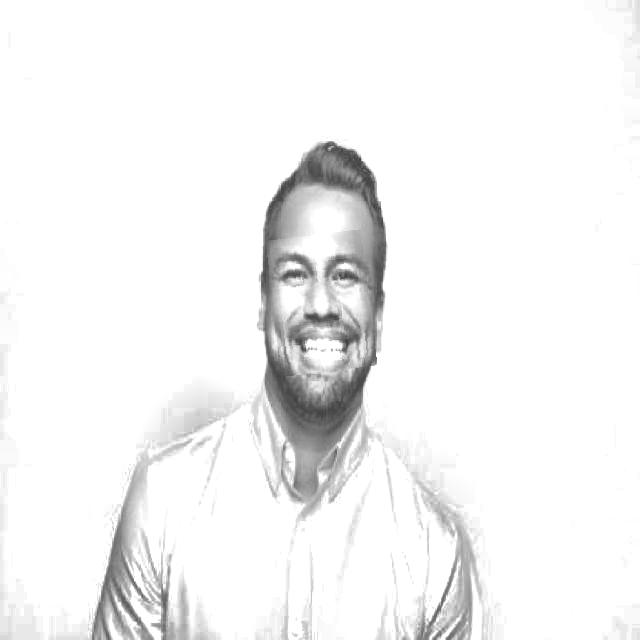happy: (270, 232, 374, 374)
